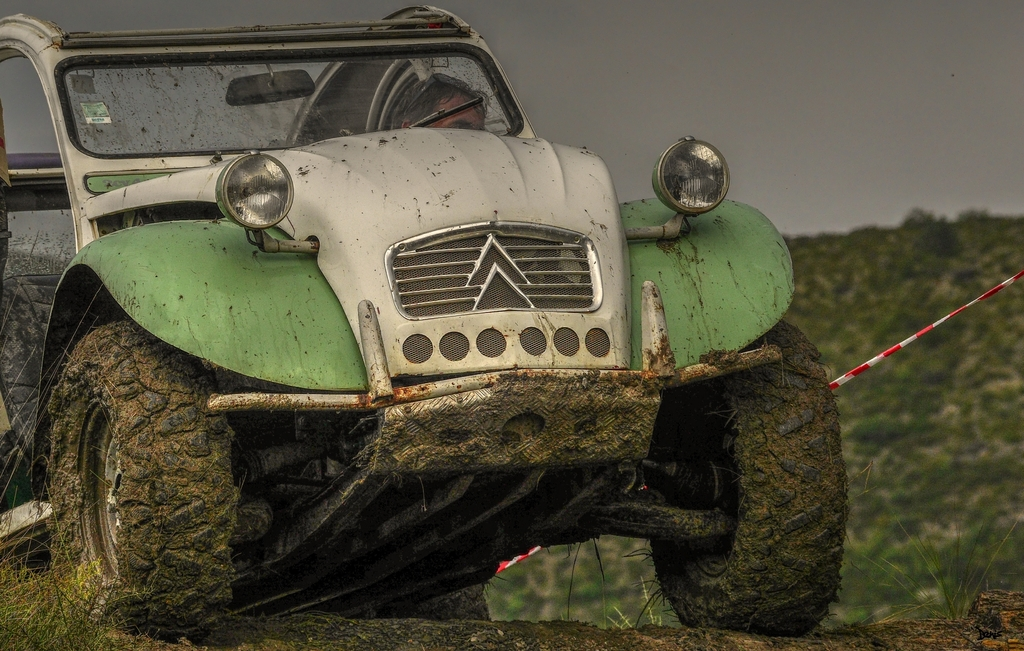Car: (0, 3, 845, 638)
